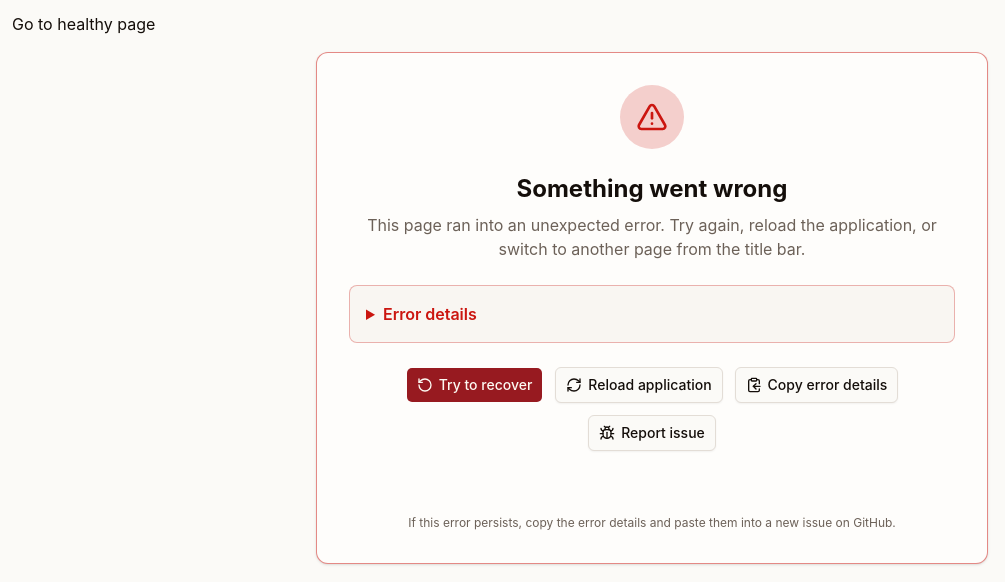
When a routed page throws while rendering › If the user copies the error details, Then the message, stack and app version are written to the clipboard
Click the button "Copy error details".
click(816, 385)  # box [735,367,898,403]
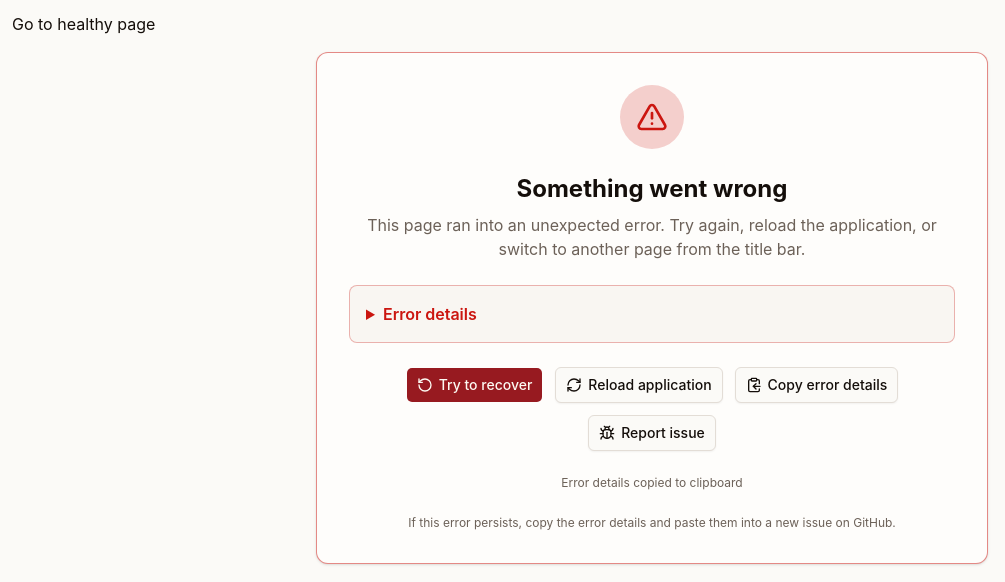
Now the text "Error details copied to clipboard" is shown, box [561,475,743,490]
